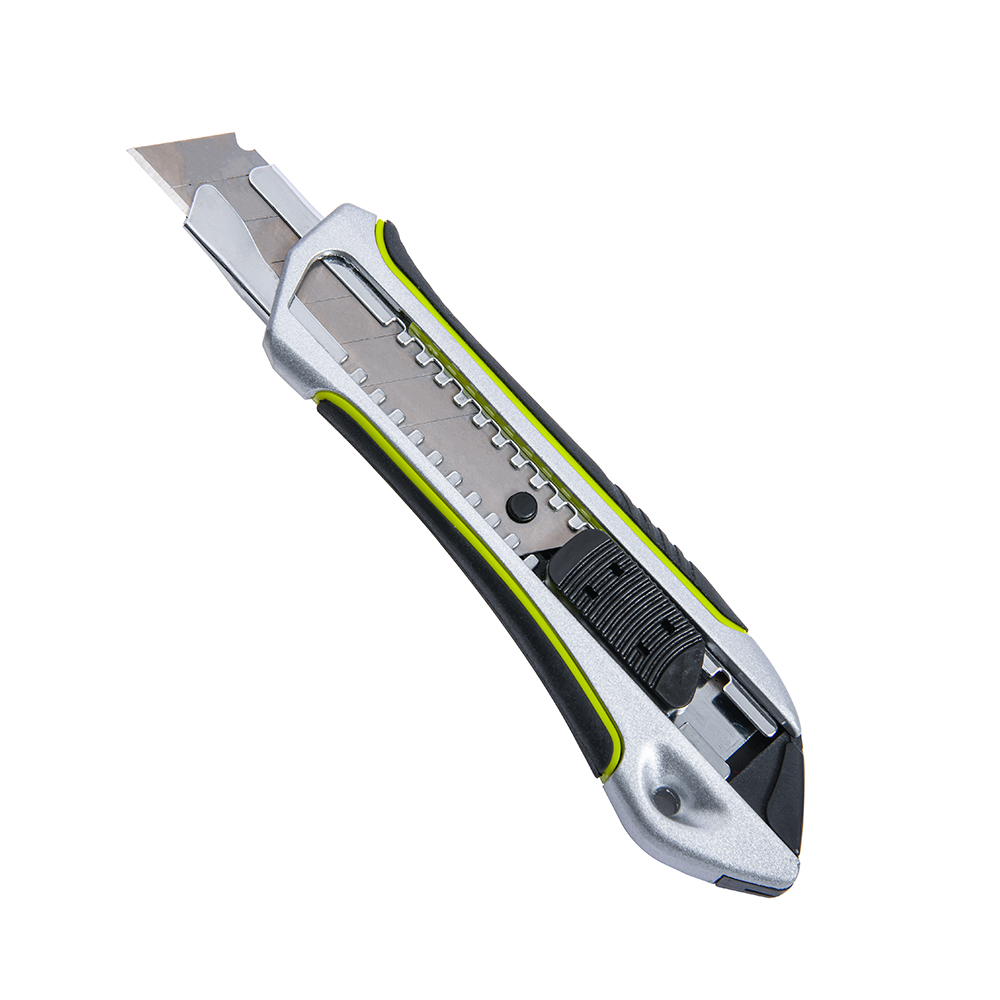cutter: (119, 131, 808, 902)
